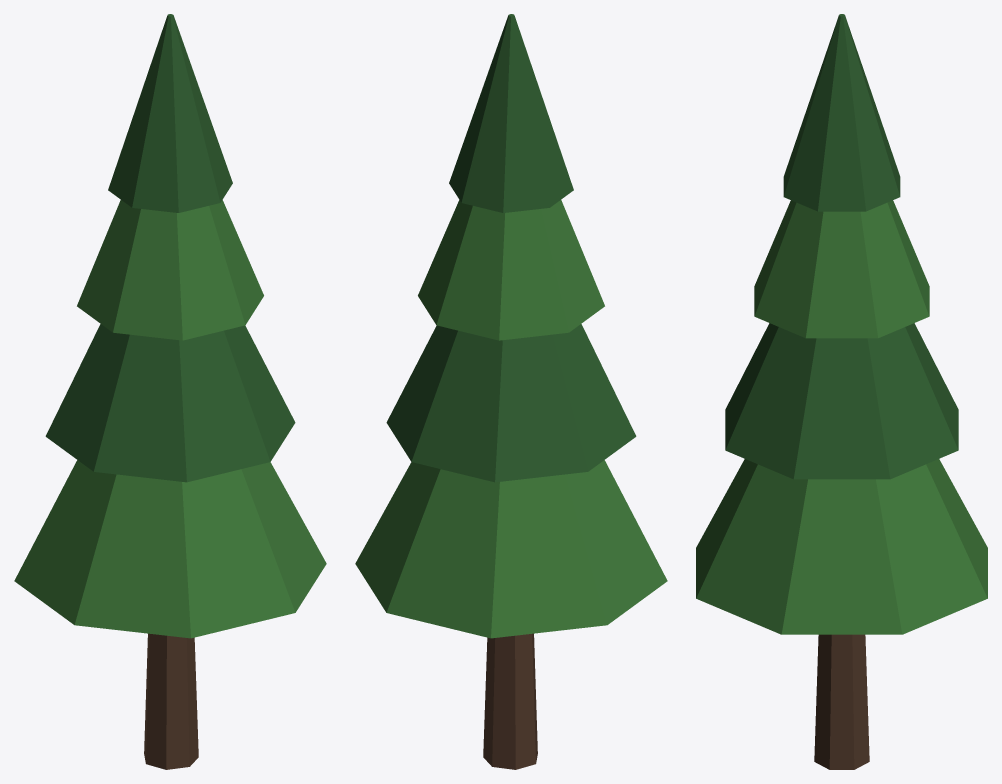
Rendered from tree_pine_tall.glb.
3 views of the same model, side by side, from view 1: azimuth 30°, elevation 25°; view 2: azimuth 150°, elevation 25°; view 3: azimuth 270°, elevation 25° (orthographic).
Visible parts, largest first — view 1: tree_pine_tall; view 2: tree_pine_tall; view 3: tree_pine_tall.
Part boxes in pixels (x1=…): tree_pine_tall: x1=14, y1=14, x2=326, y2=769; tree_pine_tall: x1=355, y1=14, x2=667, y2=769; tree_pine_tall: x1=696, y1=14, x2=987, y2=769.
Size of the model in its own units: 1.85 by 5.2 by 1.85.
